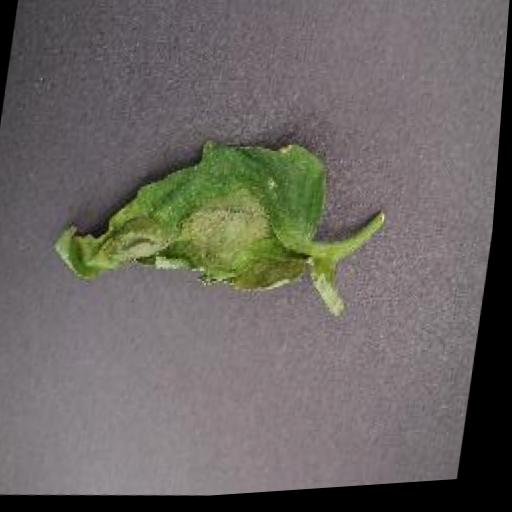Late Blight: (42, 117, 373, 340)
